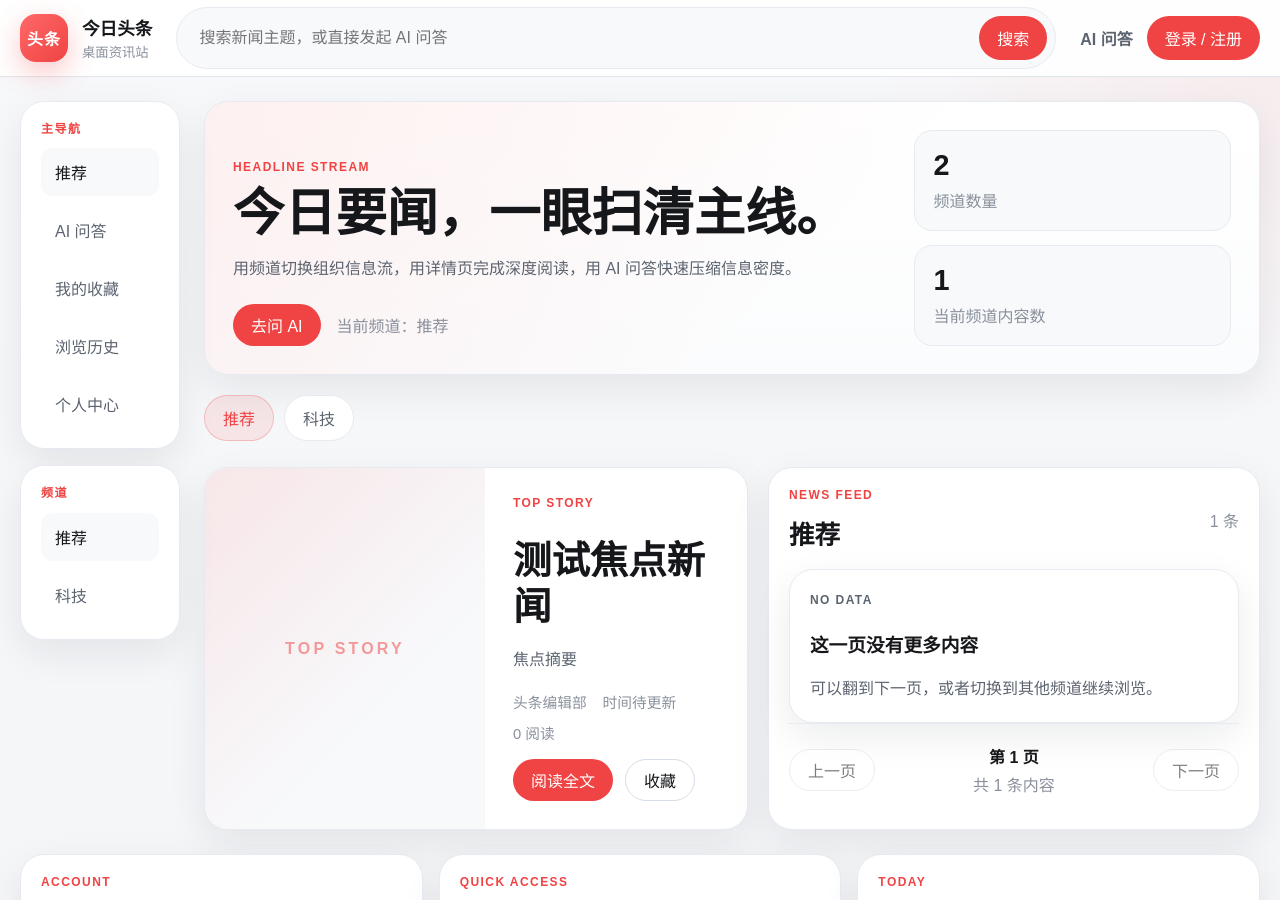
Test case: HomePage › syncs category switches into the url and data
Expected: the heading "测试焦点新闻" is shown, [513,538,719,629]
Click the button "科技". click: [319, 418]
box: [284,395,354,441]
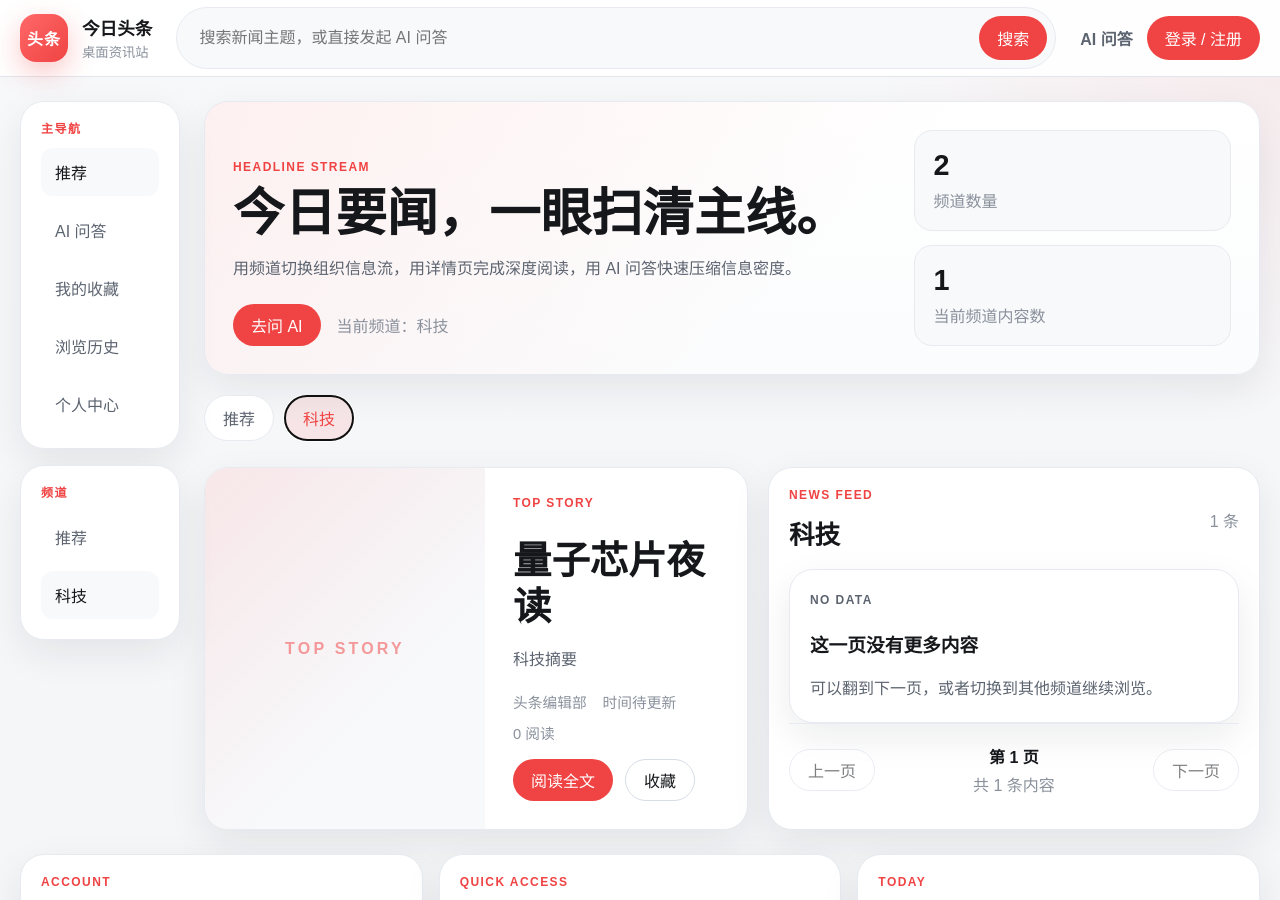
Expected: the heading "量子芯片夜读" is shown, [513,538,719,629]
